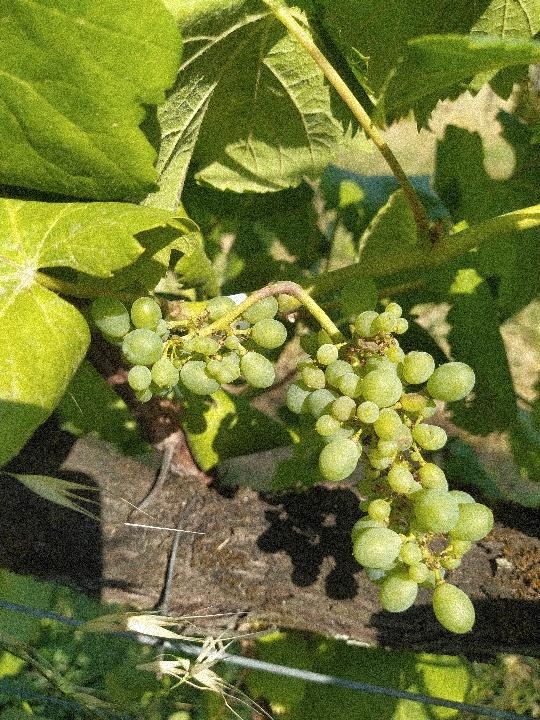grape: (86, 271, 505, 638)
